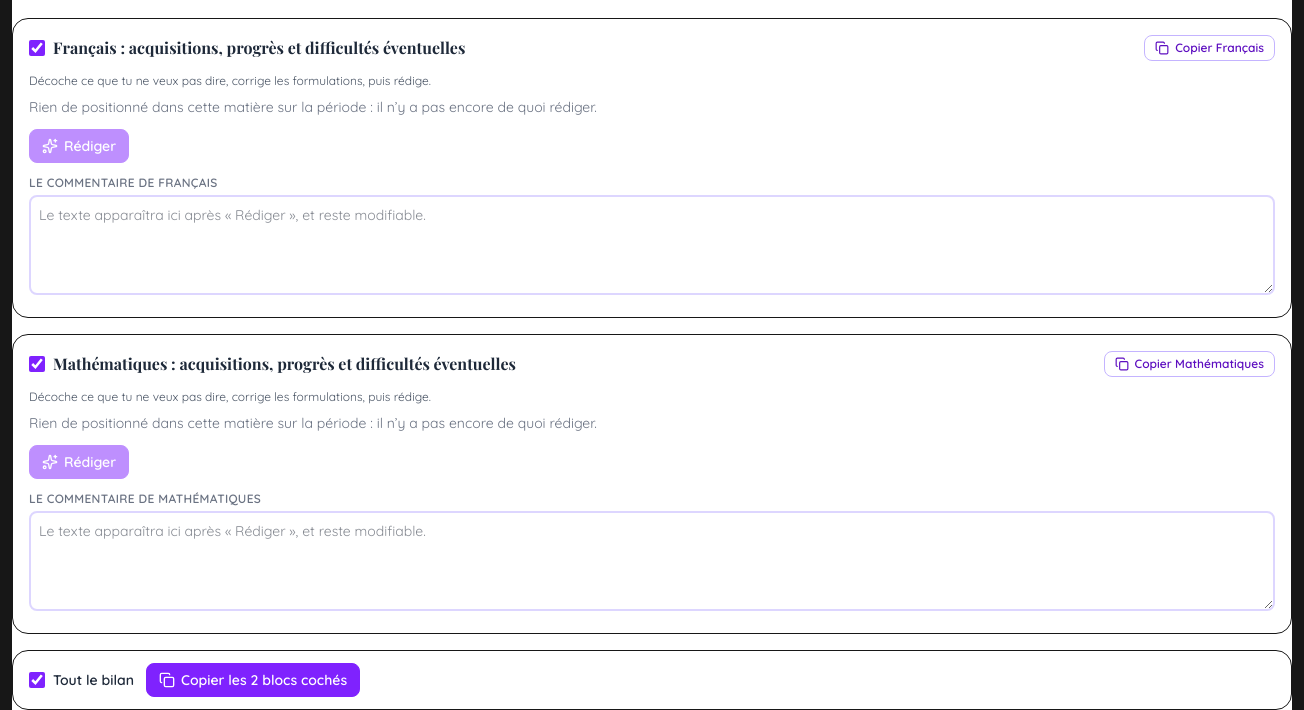
Test case: Livret › le bouton de copie groupée dit ce qu’il va copier
(page scrolled)
Expected: the button "Copier les 2 blocs cochés" is shown, [146, 663, 360, 697]
Step 1. Click the checkbox named "inclure mathématiques dans la copie groupée" → (37, 364), box [29, 356, 45, 372]
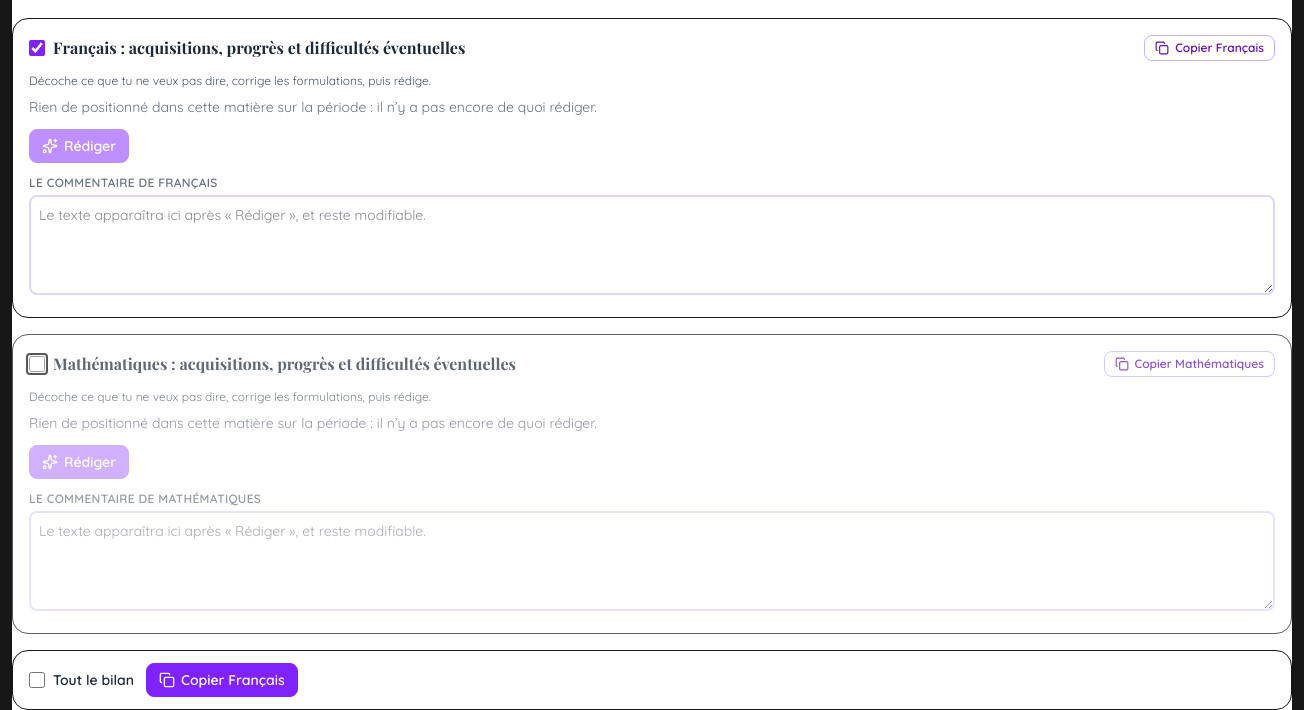
Expected: the button "Copier Français" next to "Tout le bilan" is shown, [146, 663, 298, 697]
Step 2. Click the checkbox named "inclure français dans la copie groupée" → (37, 48), box [29, 40, 45, 56]
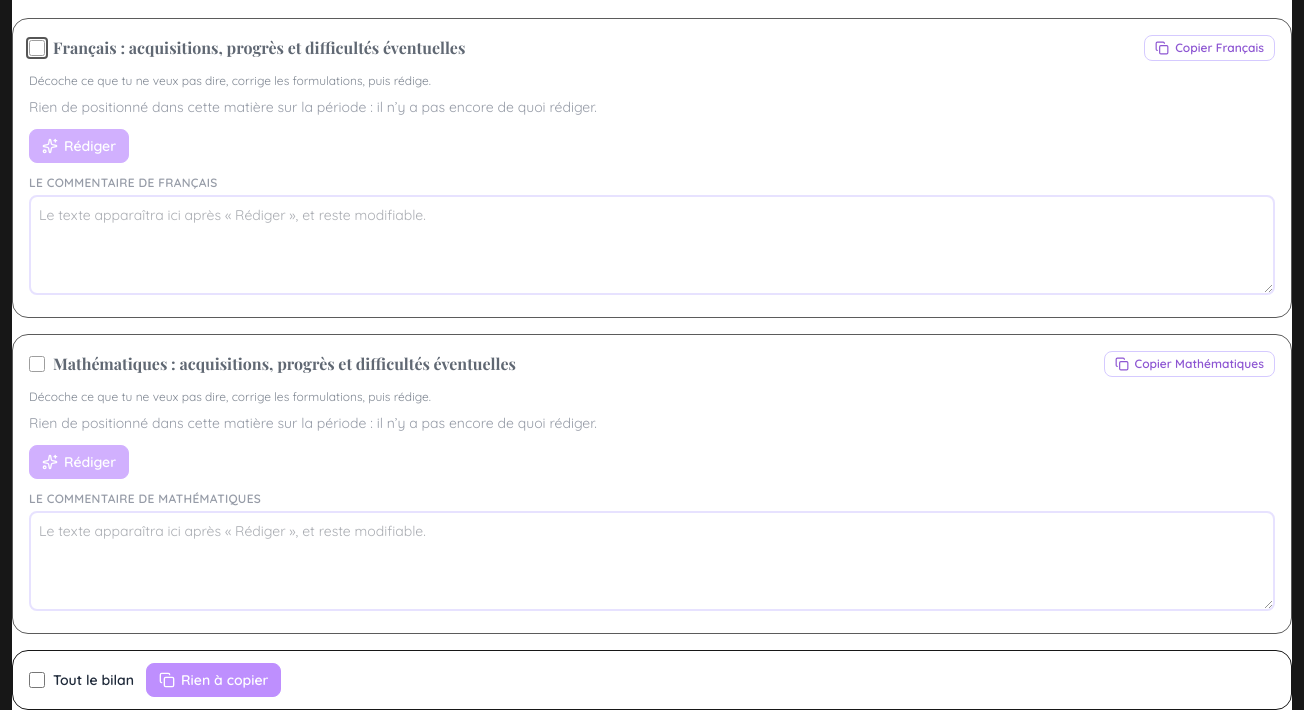
Expected: the button "Rien à copier" is shown, [146, 663, 281, 697]
